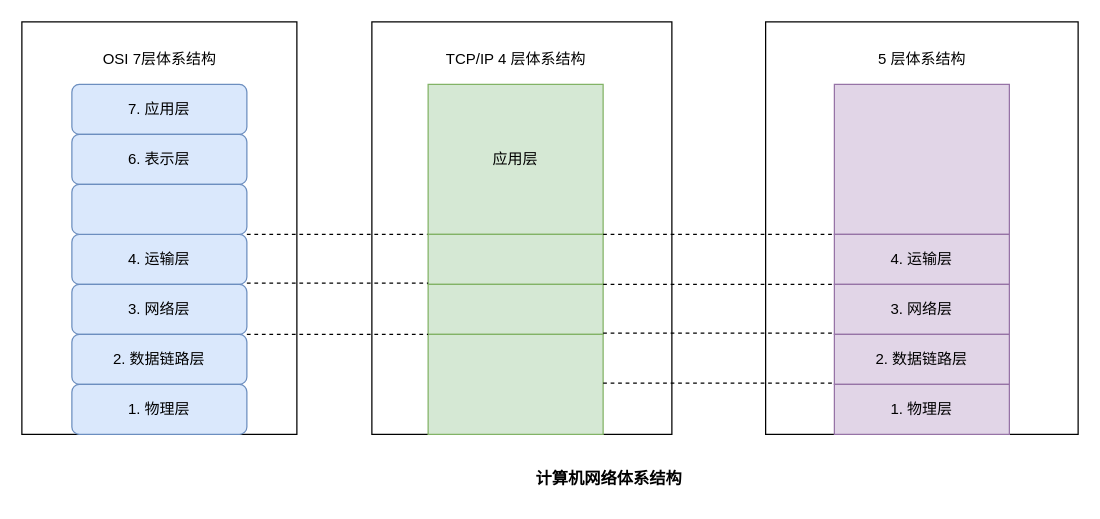
Some shapes in this 1100 by 519 pixel diagram are drawn without their labels. Here are the shapes that lost their labels. From the top down, the box of each, then its label:
(833, 83, 1009, 234): 5. 应用层
(71, 183, 247, 234): 5. 会话层
(427, 233, 603, 284): 运输层
(427, 283, 603, 334): 网络层
(427, 333, 603, 434): 网络接口层
